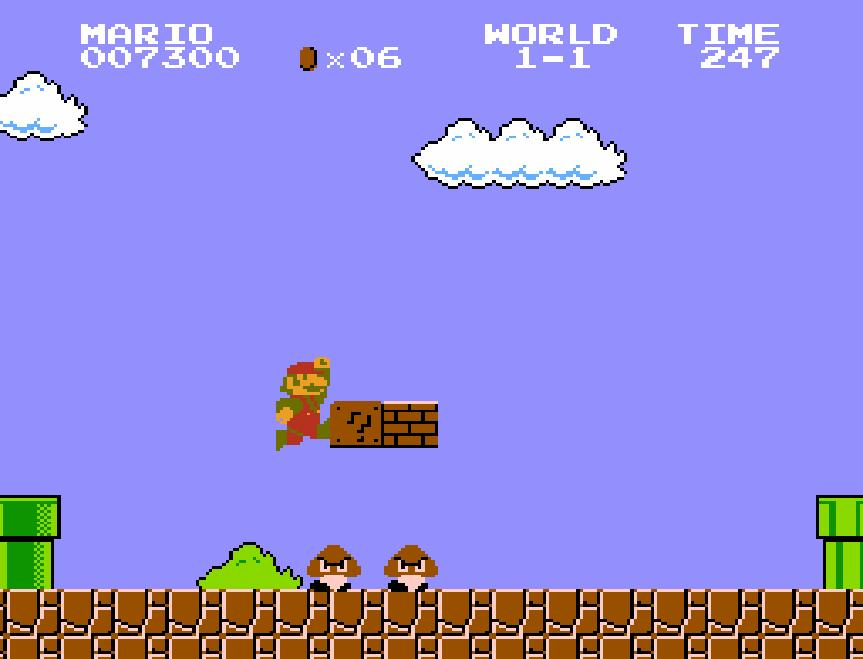big_mario: (274, 354, 332, 452)
